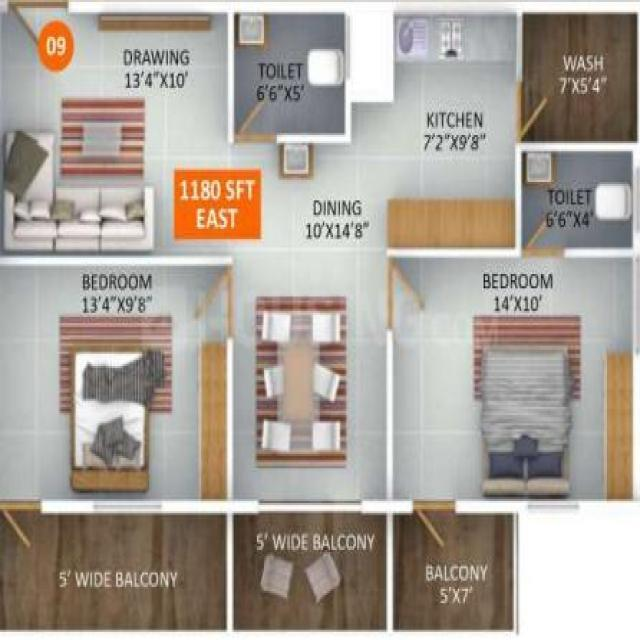Balcony-Sitout: (2, 508, 228, 635), (231, 506, 389, 635), (391, 507, 516, 634)
Bedroom: (2, 261, 230, 504)
Bedroom with Toilet: (389, 145, 637, 506)
Dining: (256, 292, 347, 469)
Enterance-Foyer: (7, 0, 70, 73)
Kitchen: (387, 12, 516, 250)
Living: (3, 3, 230, 260)
Toilet: (234, 12, 344, 133), (521, 151, 632, 248)
Utility: (522, 11, 636, 142)
